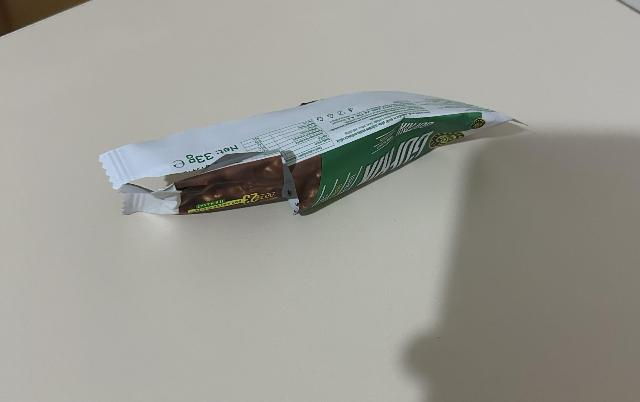Plastik: (87, 91, 530, 218)
